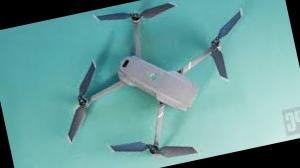drone: (41, 0, 283, 166)
